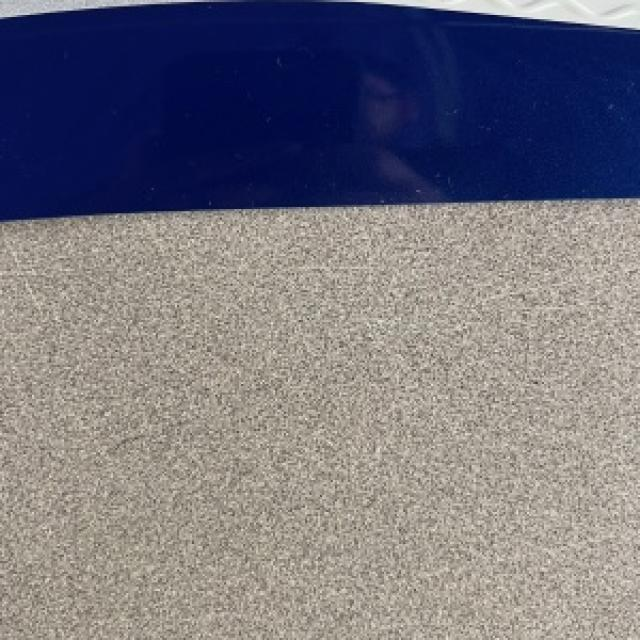healthy: (0, 198, 638, 638), (0, 0, 638, 218)
